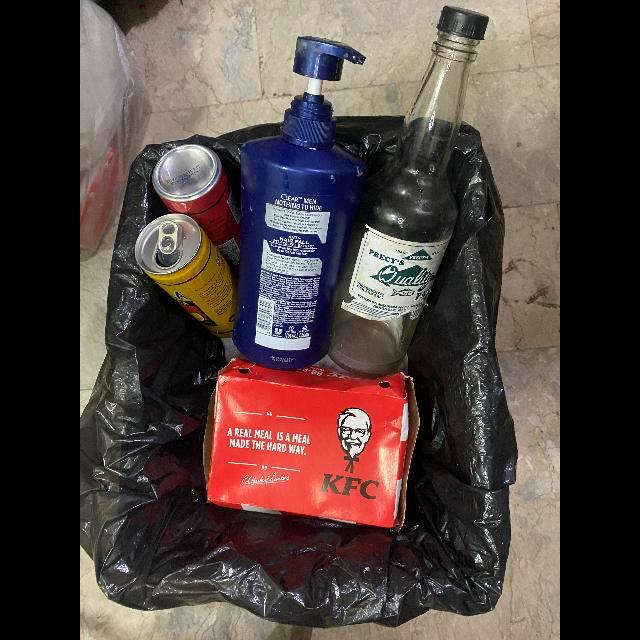aluminum: (134, 213, 238, 339), (152, 144, 241, 266)
cardboard: (203, 359, 420, 534)
glass_bottle: (327, 5, 489, 379)
plastic_bottle: (232, 36, 367, 373)
